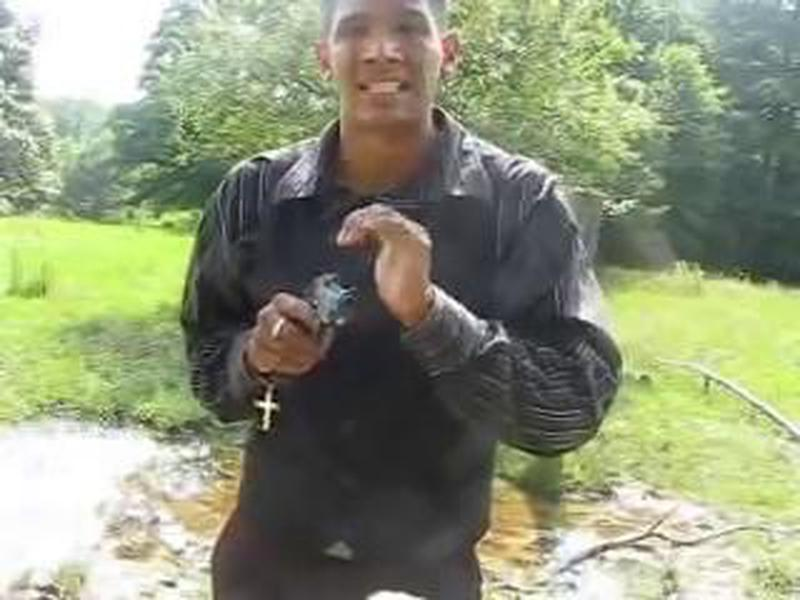Pistola: (267, 262, 367, 366)
